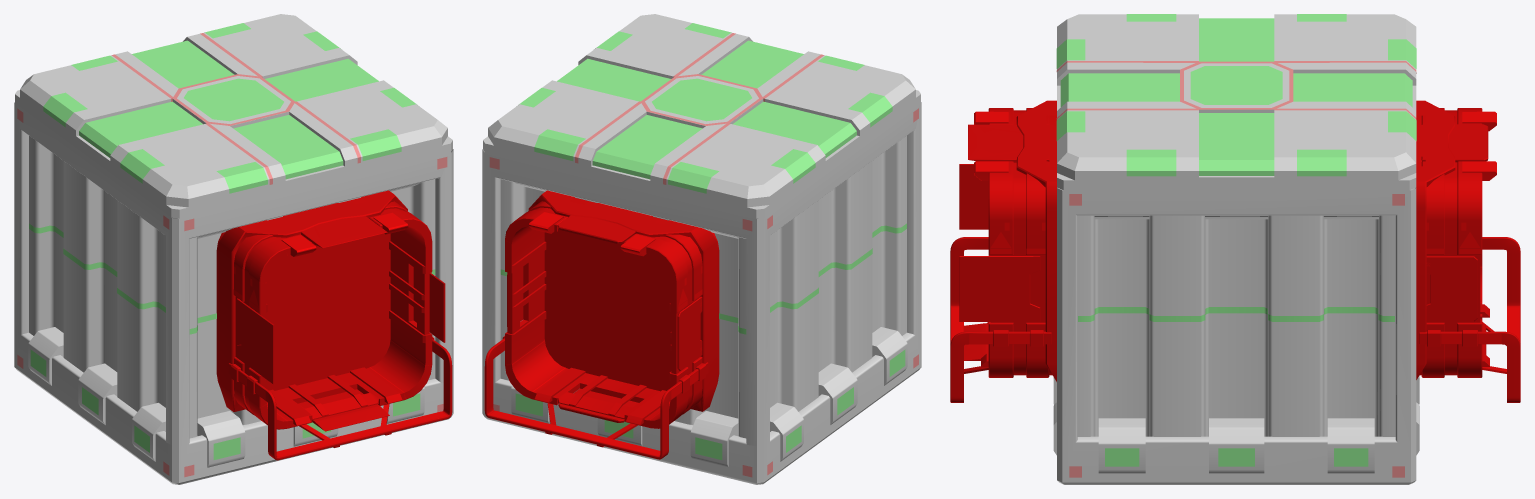
The model's file is ministorage.ex.fbx.
The picture shows the model from 3 angles, left to right: view 1: azimuth 30°, elevation 25°; view 2: azimuth 150°, elevation 25°; view 3: azimuth 270°, elevation 25°; orthographic projection. The views are drawn at different scales.
Visible parts, largest first — view 1: TruckStation_sm; view 2: TruckStation_sm; view 3: TruckStation_sm.
Part boxes in pixels (box(x1,y1,x2,y2)): TruckStation_sm: box(14, 14, 453, 484); TruckStation_sm: box(482, 14, 921, 484); TruckStation_sm: box(950, 14, 1520, 484).
Size of the model in its own units: 346 by 340 by 538.
